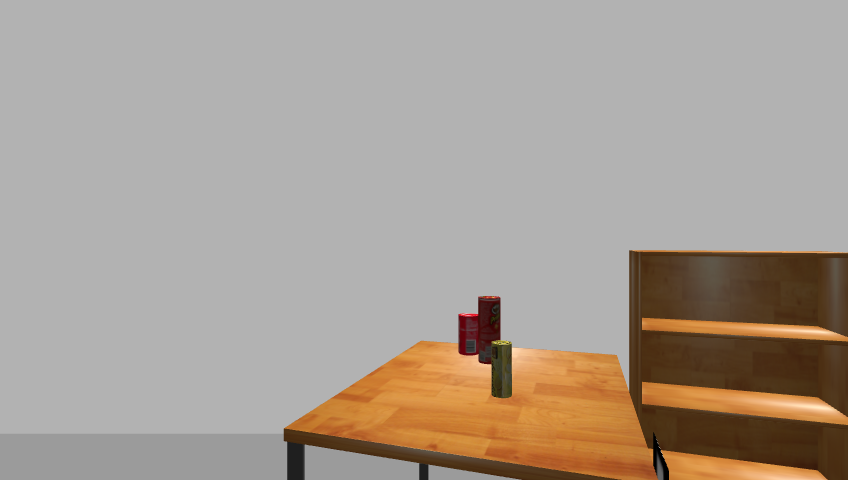aruco marker: (648, 434, 672, 480)
biscuits pack: (492, 340, 514, 400)
bookshelf: (622, 249, 848, 480)
coke can: (456, 313, 481, 357)
dinner table: (277, 340, 660, 480)
pringles can: (477, 295, 502, 366)
